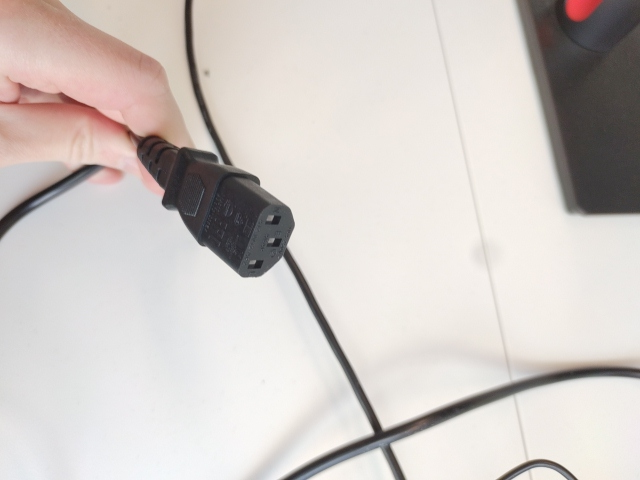IEC-Power: (234, 206, 296, 278)
